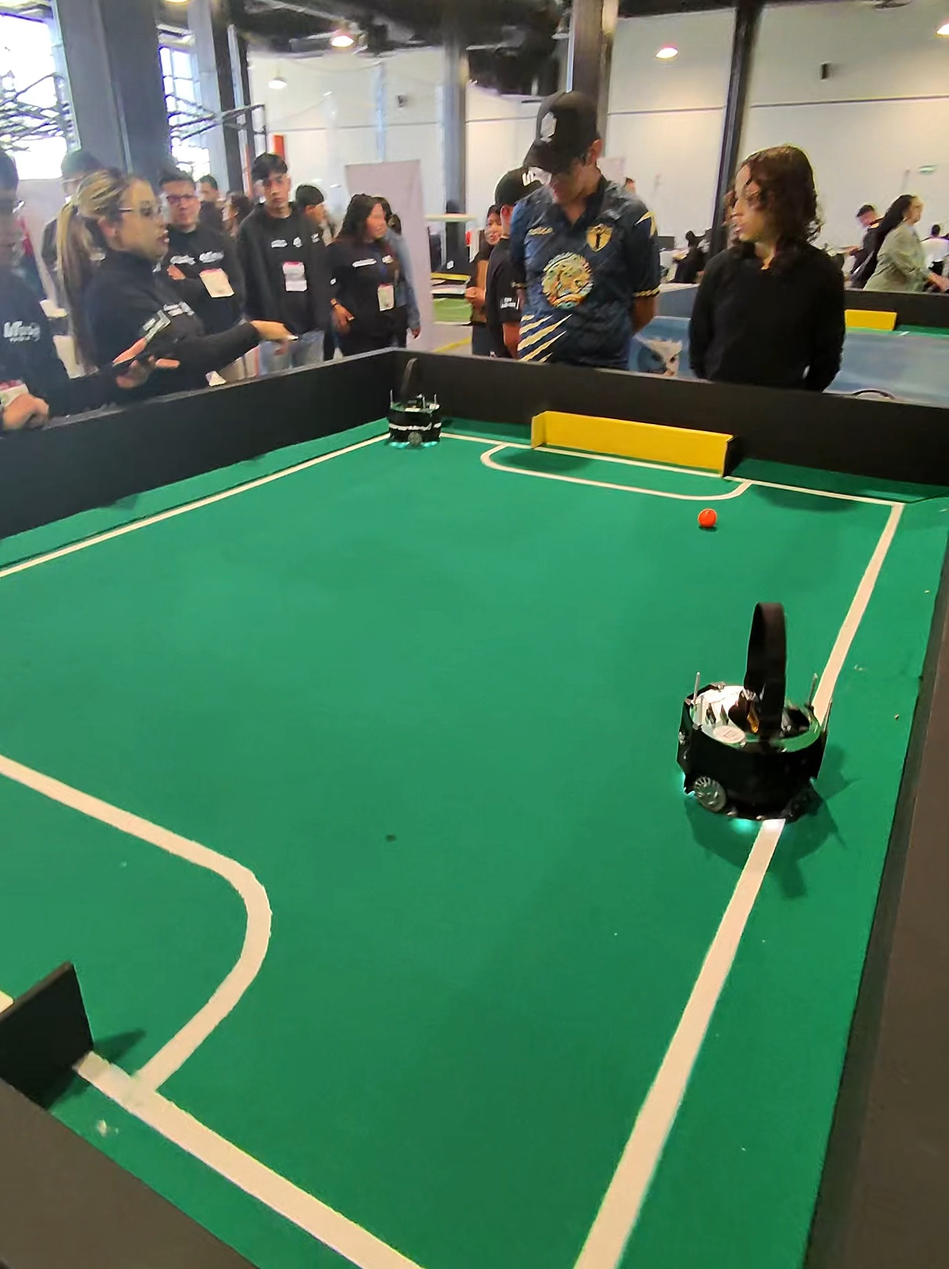Robot: (642, 589, 853, 854), (384, 345, 462, 464)
pelota: (685, 492, 737, 543)
